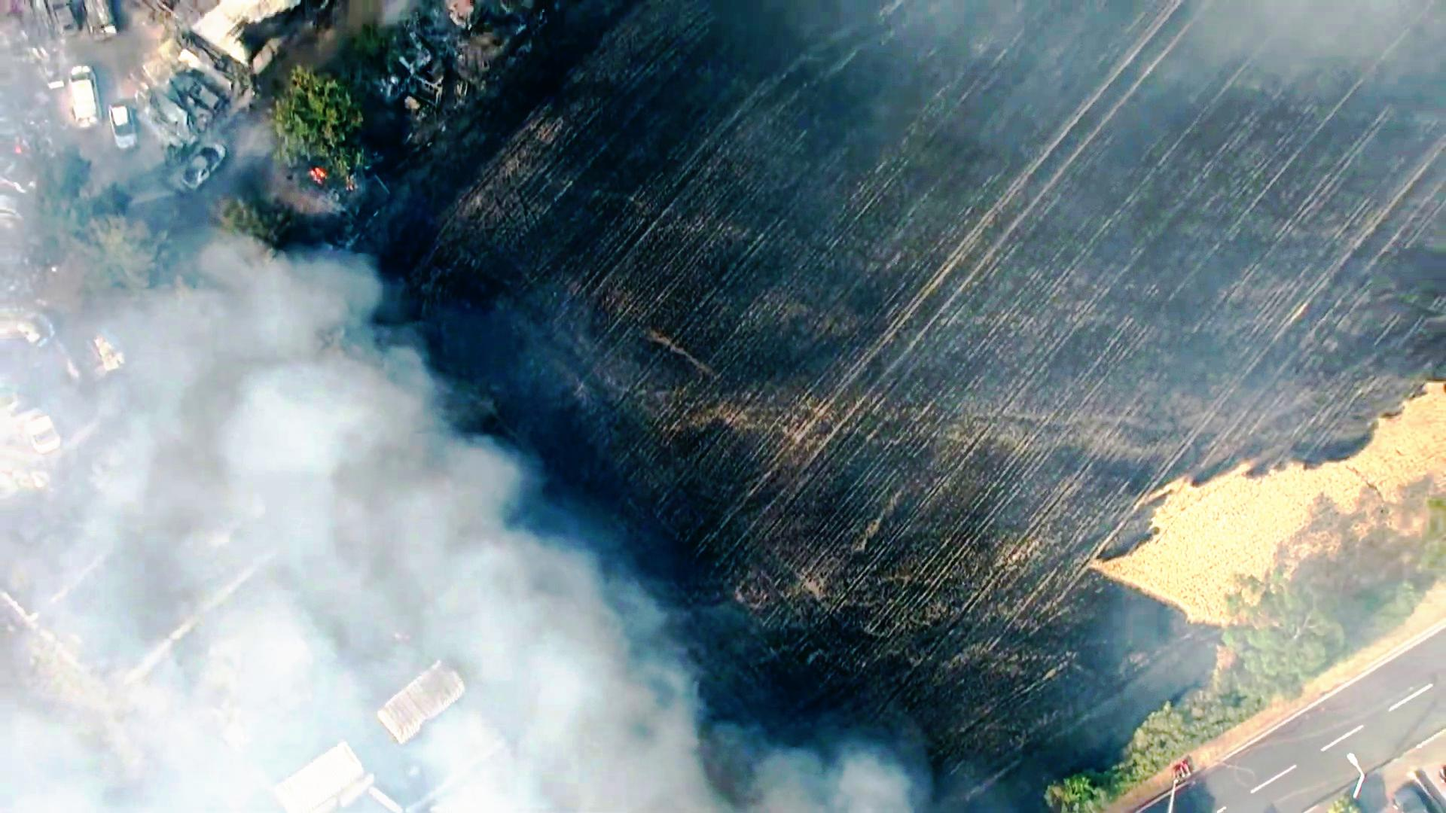smoke: (262, 409, 471, 545)
